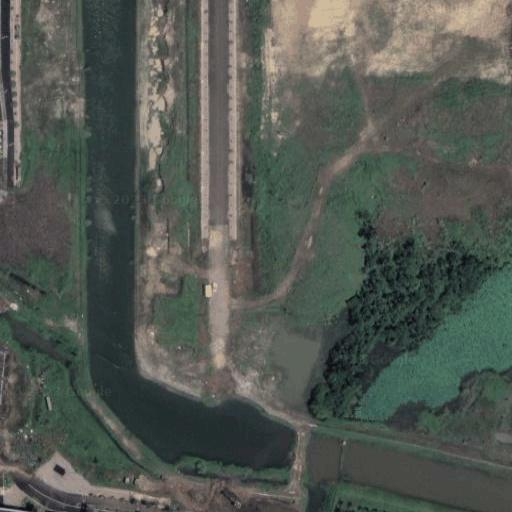building: (206, 284, 210, 296)
